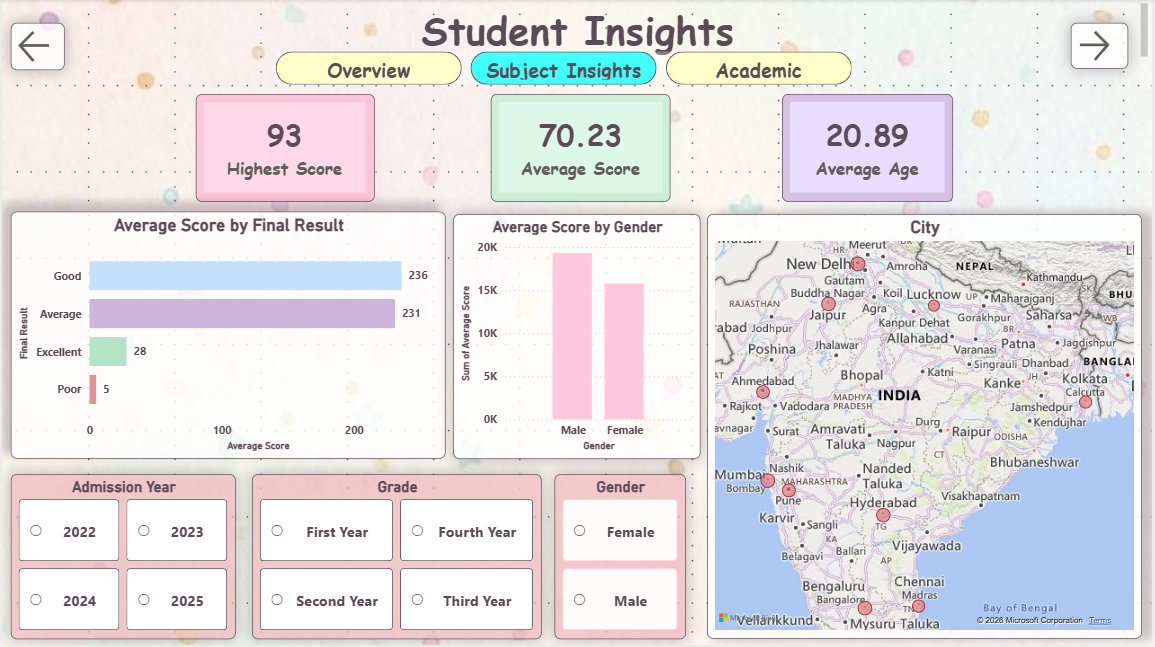

Layout of this report page (visuals, bound fields, positions):
{"tool":"powerbi","page":{"name":"Subject Insights","canvas":[1280,720],"ordinal":1},"visuals":[{"type":"textbox","box":[9.7,0,1270.3,69.6],"z":0},{"type":"cardVisual","fields":{"Data":["Sheet1.Highest Score"]},"box":[215.7,105.7,199,119.7],"z":1000},{"type":"cardVisual","fields":{"Data":["Sheet1.Average Score"]},"box":[544,105.7,200.3,119.7],"z":2000},{"type":"cardVisual","fields":{"Data":["Sheet1.Average Age"]},"box":[868.2,105.7,190.6,119.7],"z":3000},{"type":"clusteredBarChart","title":"Average  Score by Final Result","fields":{"Category":["Sheet1.Final Result"],"Y":["CountNonNull(Sheet1.Student ID)"]},"box":[9.7,236.5,484.2,275.5],"z":4000},{"type":"clusteredColumnChart","title":"Average  Score by Gender","fields":{"Y":["Sum(Sheet1.Average  Score)"],"Category":["Sheet1.Gender"]},"box":[502.3,239.3,275.5,272.7],"z":5000},{"type":"map","title":"City","fields":{"Category":["Sheet1.City"],"Size":["CountNonNull(Sheet1.Student ID)"]},"box":[784.7,239.3,484.2,473],"z":6000},{"type":"advancedSlicerVisual","fields":{"Values":["Sheet1.Gender"]},"box":[615,528.7,146.1,183.7],"z":7000},{"type":"advancedSlicerVisual","fields":{"Values":["Sheet1.Admission Year"]},"box":[9.7,528.7,250.4,183.7],"z":8000},{"type":"advancedSlicerVisual","fields":{"Values":["Sheet1.Grade"]},"box":[278.3,528.7,322.8,183.7],"z":9000},{"type":"actionButton","box":[1189.6,26.4,64,51.5],"z":10000},{"type":"actionButton","box":[9.7,26.4,59.8,52.9],"z":11000},{"type":"pageNavigator","box":[304.7,58.4,641.4,37.6],"z":12000}]}

Visuals, with their boxes in screenshot pixels (x1, y1, x2, y2), scaled from the page's 1280x720 canvas onto the 1155x647 screenshot:
textbox: crop(9, 0, 1154, 63)
cardVisual - Sheet1.Highest Score: crop(195, 95, 374, 203)
cardVisual - Sheet1.Average Score: crop(491, 95, 672, 203)
cardVisual - Sheet1.Average Age: crop(783, 95, 955, 203)
"Average  Score by Final Result" clusteredBarChart: crop(9, 213, 446, 460)
"Average  Score by Gender" clusteredColumnChart: crop(453, 215, 702, 460)
"City" map: crop(708, 215, 1145, 640)
advancedSlicerVisual - Sheet1.Gender: crop(555, 475, 687, 640)
advancedSlicerVisual - Sheet1.Admission Year: crop(9, 475, 235, 640)
advancedSlicerVisual - Sheet1.Grade: crop(251, 475, 542, 640)
actionButton: crop(1073, 24, 1131, 70)
actionButton: crop(9, 24, 63, 71)
pageNavigator: crop(275, 52, 854, 86)
